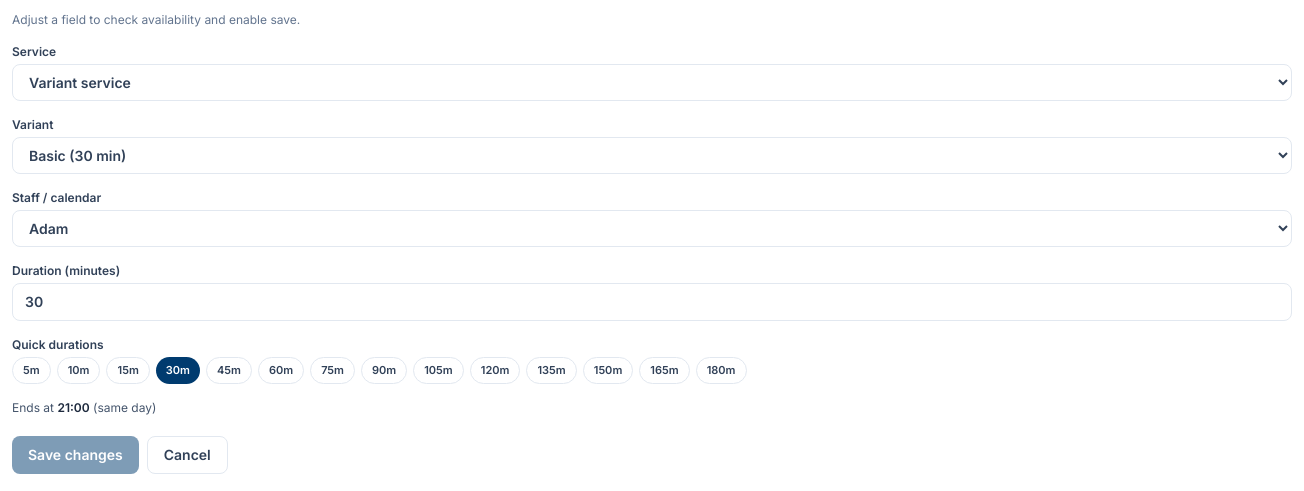
Test: StaffAppointmentModifyForm: duration follows the variant › adopts the new variant’s duration when the variant is switched
Expected: the number field labelled "Duration (minutes)" holds "30", [12,283,1292,321]
Step 1. Select "Premium (60 min)" in the dropdown labelled "Variant" → point(652, 156), box [12,137,1292,174]
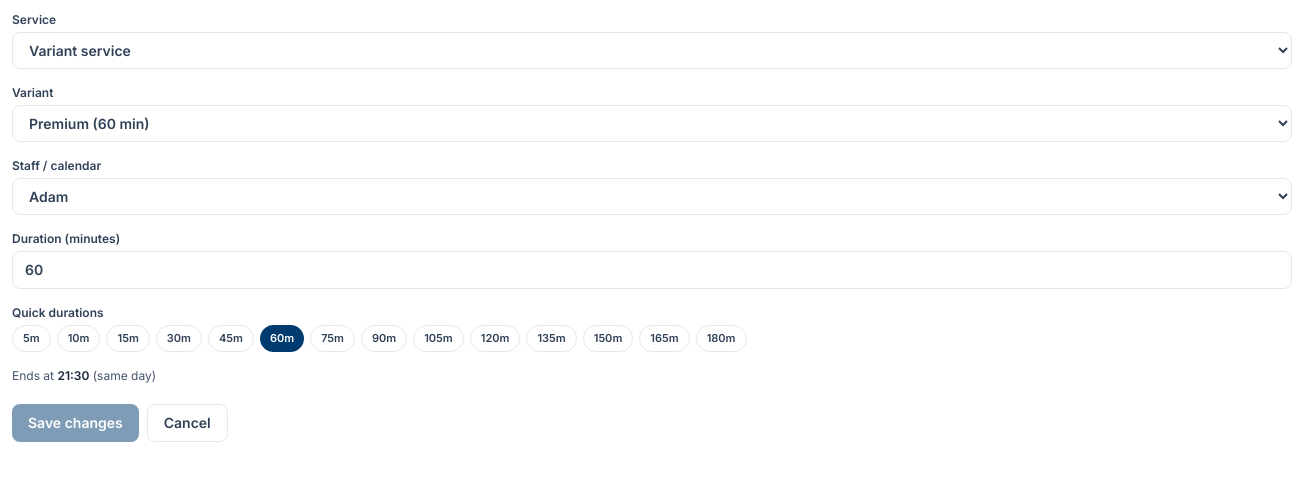
Expected: the number field labelled "Duration (minutes)" holds "60", [12,251,1292,289]
